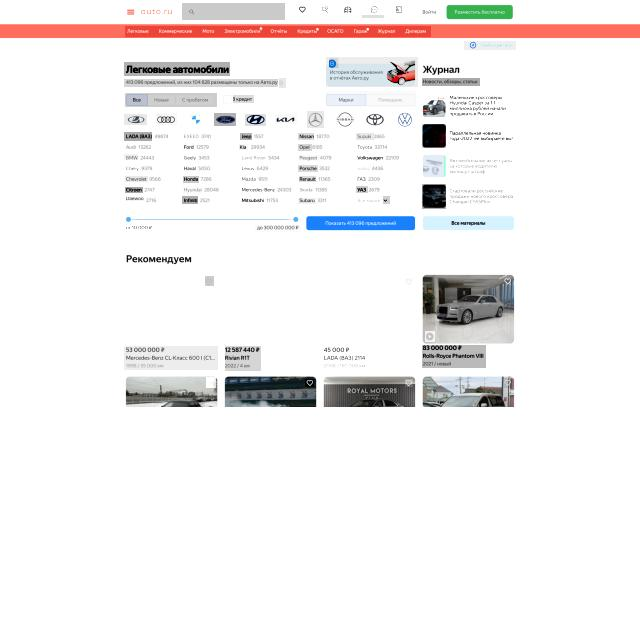CheckBox: (305, 214, 417, 232), (421, 214, 516, 232), (446, 4, 514, 20), (413, 4, 445, 20), (464, 41, 516, 50), (221, 93, 233, 105)
CheckedTextView: (182, 3, 285, 20)
Input field: (124, 346, 218, 370), (422, 346, 486, 370), (124, 79, 278, 87), (322, 345, 367, 369), (225, 346, 261, 371), (422, 78, 480, 86)
RadioButton: (330, 58, 340, 68)
SeekBar: (124, 40, 266, 50)
alert: (355, 194, 394, 207)
bag: (0, 0, 640, 53)
breadcrumbs: (124, 62, 230, 76), (124, 253, 195, 270), (420, 61, 463, 77)
carousel: (448, 156, 515, 177), (449, 94, 508, 117), (448, 186, 515, 206), (449, 129, 515, 144), (125, 6, 136, 18), (368, 4, 380, 15), (296, 4, 308, 14), (319, 5, 331, 15), (342, 4, 354, 14), (392, 4, 404, 14), (425, 331, 435, 342), (502, 276, 513, 286), (206, 377, 216, 388), (206, 276, 216, 286), (304, 277, 315, 286), (404, 277, 414, 286), (467, 41, 478, 49), (280, 78, 288, 88), (504, 378, 512, 388), (305, 379, 314, 387), (188, 8, 196, 16), (405, 379, 413, 387), (383, 196, 390, 204)
content: (326, 57, 418, 87), (335, 110, 356, 128), (364, 111, 386, 127), (396, 110, 413, 128), (214, 113, 237, 126), (187, 111, 204, 128), (307, 111, 324, 128), (124, 114, 147, 125), (156, 113, 177, 125), (245, 114, 266, 126), (275, 114, 297, 124)
copy: (422, 154, 447, 178), (422, 184, 446, 209), (422, 94, 446, 118), (422, 124, 446, 148)
data feed: (255, 225, 301, 232), (124, 132, 152, 141), (124, 224, 155, 232), (356, 154, 385, 162), (240, 154, 267, 162), (240, 187, 276, 193), (233, 95, 256, 103), (182, 186, 203, 194), (240, 198, 265, 204), (182, 132, 200, 140), (357, 198, 381, 204), (298, 165, 318, 172), (125, 176, 148, 182), (298, 155, 320, 161), (182, 196, 198, 204), (356, 164, 372, 172), (356, 133, 374, 140), (124, 198, 144, 204), (182, 154, 197, 162), (183, 176, 199, 183), (298, 133, 314, 140), (357, 144, 373, 151), (125, 187, 143, 193), (298, 198, 316, 204), (292, 14, 313, 19), (337, 14, 358, 19), (125, 165, 140, 172), (240, 176, 257, 182), (299, 176, 316, 182), (183, 165, 197, 172), (241, 165, 255, 172), (298, 144, 312, 151), (183, 143, 195, 151), (298, 186, 314, 192), (389, 14, 408, 19), (124, 154, 138, 160), (240, 133, 252, 140), (356, 186, 368, 193), (356, 175, 367, 182), (125, 144, 137, 150), (362, 15, 384, 18), (316, 14, 332, 18), (240, 144, 250, 150)
date picker: (139, 5, 176, 18)
decoration: (125, 26, 431, 37), (122, 3, 138, 20)
footer: (197, 8, 253, 15)
hero image: (123, 213, 301, 224)
icon: (326, 91, 416, 107), (125, 93, 217, 107)
